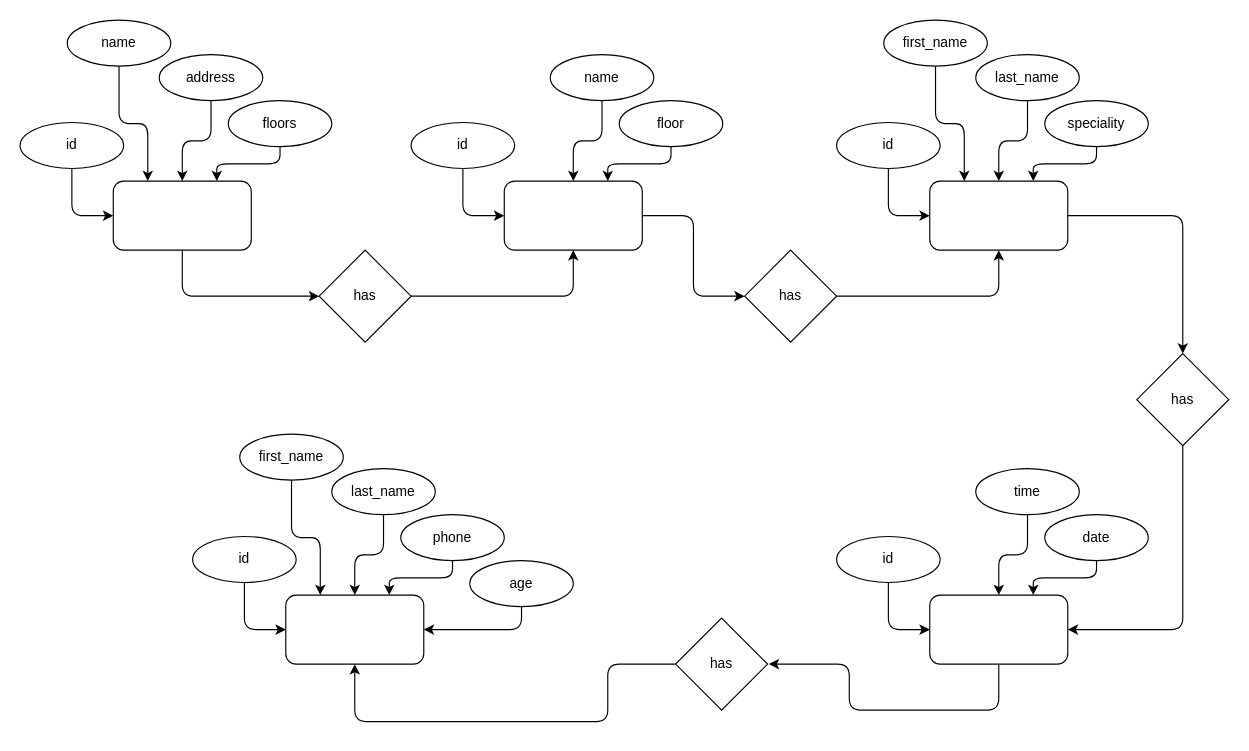
This 1249x751 diagram has some shape labels left out. Here are the shapes that lost their labels. From the top down, the centre of each, then its label:
At point (181, 215): "Hospital".
At point (572, 215): "Unit".
At point (998, 215): "Doctor".
At point (354, 629): "Patient".
At point (998, 629): "Appointment".
